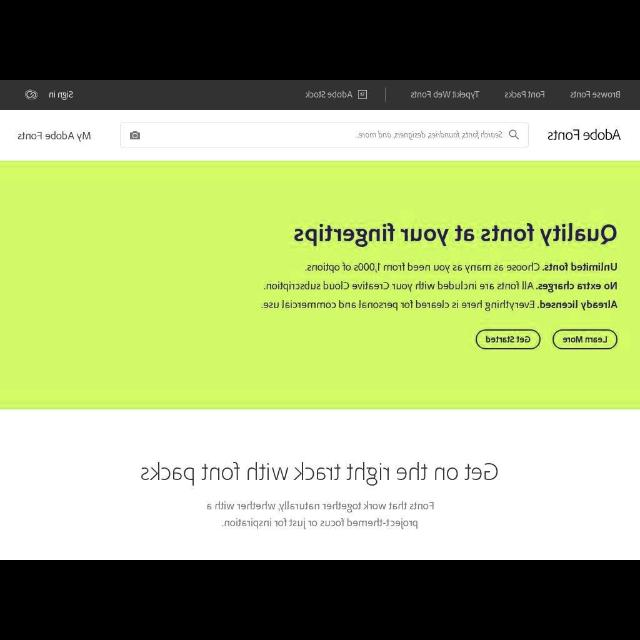icon: (510, 130, 520, 140), (358, 89, 368, 99), (27, 90, 38, 98), (130, 131, 140, 139)
input: (121, 122, 529, 146)
text: (260, 263, 618, 311), (142, 464, 498, 488), (294, 225, 618, 248), (205, 501, 433, 527), (354, 131, 502, 141), (548, 128, 620, 142), (17, 131, 92, 141), (410, 89, 480, 99), (306, 90, 352, 100), (562, 335, 608, 345), (504, 90, 546, 100), (570, 91, 620, 99), (486, 335, 530, 343), (48, 90, 74, 100)
textbutton: (476, 330, 542, 350), (552, 329, 616, 349)
toolbar: (1, 112, 640, 158)
